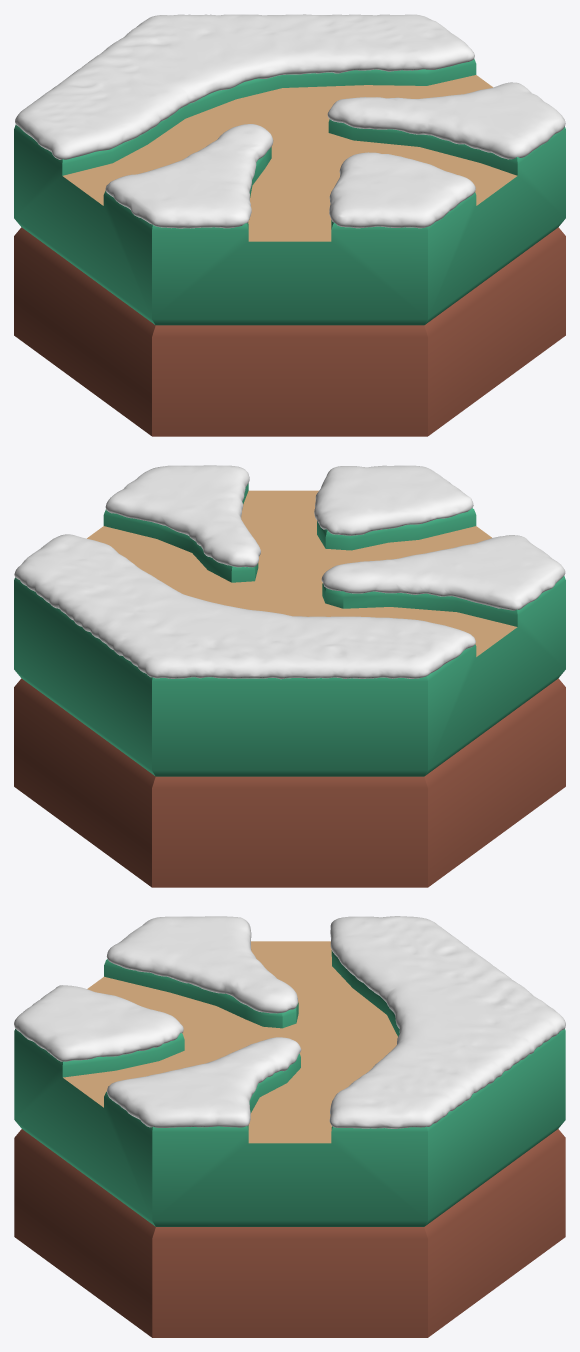
Rendered from snow_hex_forest_roadK_detail.fbx.
3 renders of one model, top to bottom at view 1: azimuth 30°, elevation 25°; view 2: azimuth 150°, elevation 25°; view 3: azimuth 270°, elevation 25°, orthographic.
Parts seen in each view (by area): view 1: hex_forest_roadK_detail.002, hex_forest_roadK_detail.001, SnowBall.001, hex_forest_roadK_detail; view 2: hex_forest_roadK_detail.002, hex_forest_roadK_detail.001, SnowBall.001, hex_forest_roadK_detail; view 3: hex_forest_roadK_detail.002, SnowBall.001, hex_forest_roadK_detail.001, hex_forest_roadK_detail.
Boxes of the visible parts, <box> form: hex_forest_roadK_detail.002: <box>14,227,565,436</box>; hex_forest_roadK_detail.001: <box>14,59,565,325</box>; SnowBall.001: <box>15,14,565,228</box>; hex_forest_roadK_detail: <box>63,75,517,241</box>; hex_forest_roadK_detail.002: <box>14,678,565,887</box>; hex_forest_roadK_detail.001: <box>14,483,565,776</box>; SnowBall.001: <box>14,465,565,679</box>; hex_forest_roadK_detail: <box>87,490,517,656</box>; hex_forest_roadK_detail.002: <box>14,1129,565,1337</box>; SnowBall.001: <box>14,916,565,1128</box>; hex_forest_roadK_detail.001: <box>14,950,565,1226</box>; hex_forest_roadK_detail: <box>63,941,397,1143</box>.
Size of the model in its own units: 203 by 104 by 231.
